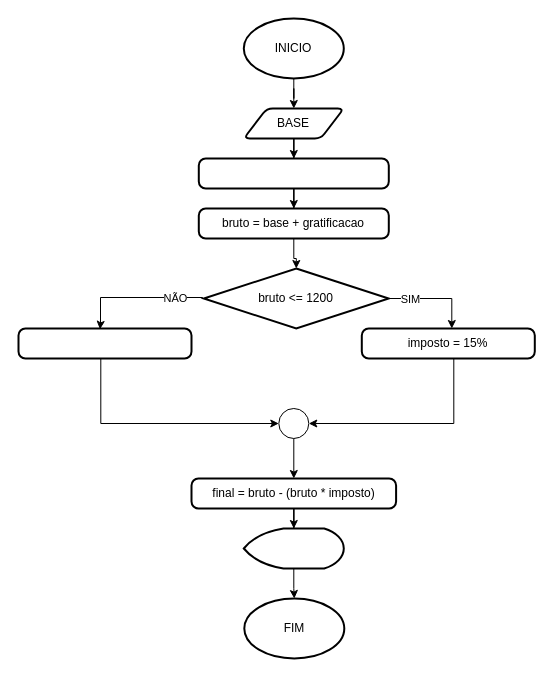
The diagram is 553 pixels wide and 676 high, and some of its shapes have lost their labels. Here are the shapes that lost their labels. From the top down, the box of each, then its label:
(197, 157, 389, 189): gratificacao = base * 10%
(17, 327, 192, 359): imposto = 20%
(242, 527, 344, 569): FINAL
